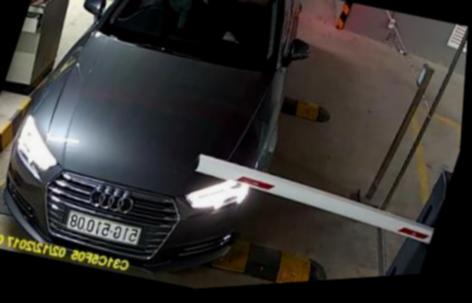License_Plate: (63, 206, 150, 248)
